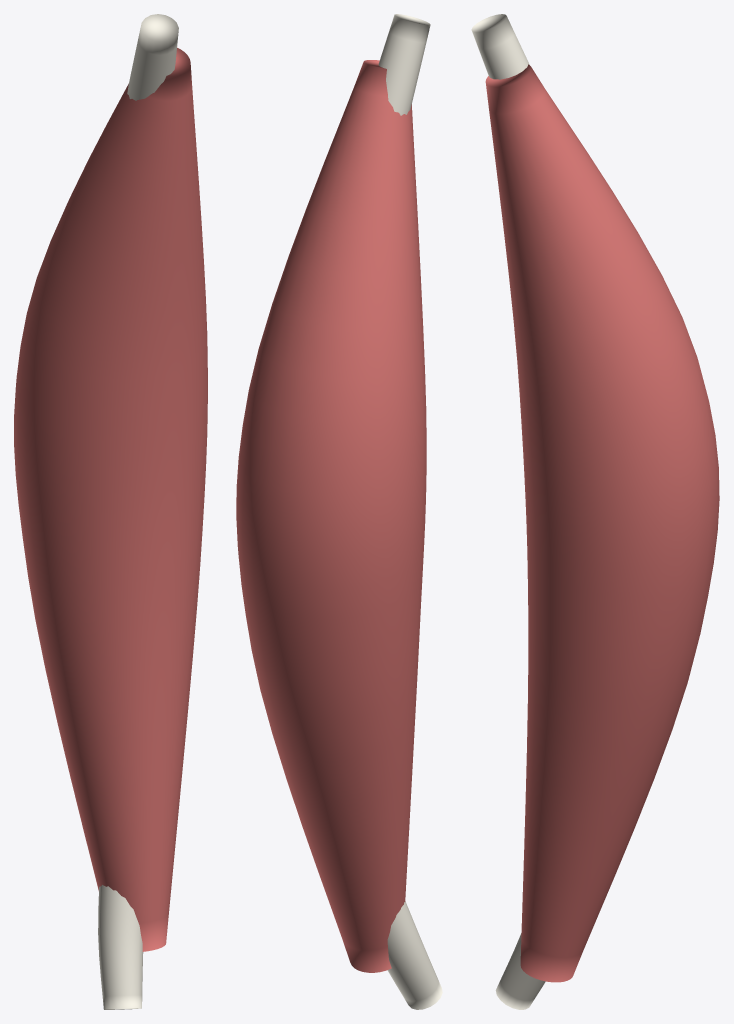
Rendered from triceps.glb.
The picture shows the model from 3 angles, left to right: view 1: azimuth 30°, elevation 25°; view 2: azimuth 150°, elevation 25°; view 3: azimuth 270°, elevation 25°; orthographic projection. The views are drawn at different scales.
Visible parts, largest first — view 1: triceps; view 2: triceps; view 3: triceps.
Boxes of the visible parts, box(x1,y1,x2,y2) form: triceps: box(14, 14, 207, 1009); triceps: box(236, 14, 442, 1009); triceps: box(471, 14, 719, 1009).
Size of the model in its own units: 0.2022 by 1.15 by 0.2578.
